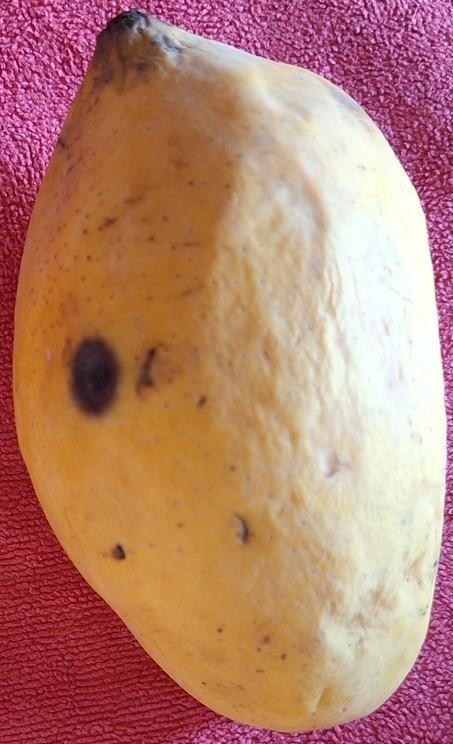mango: (10, 8, 447, 733)
